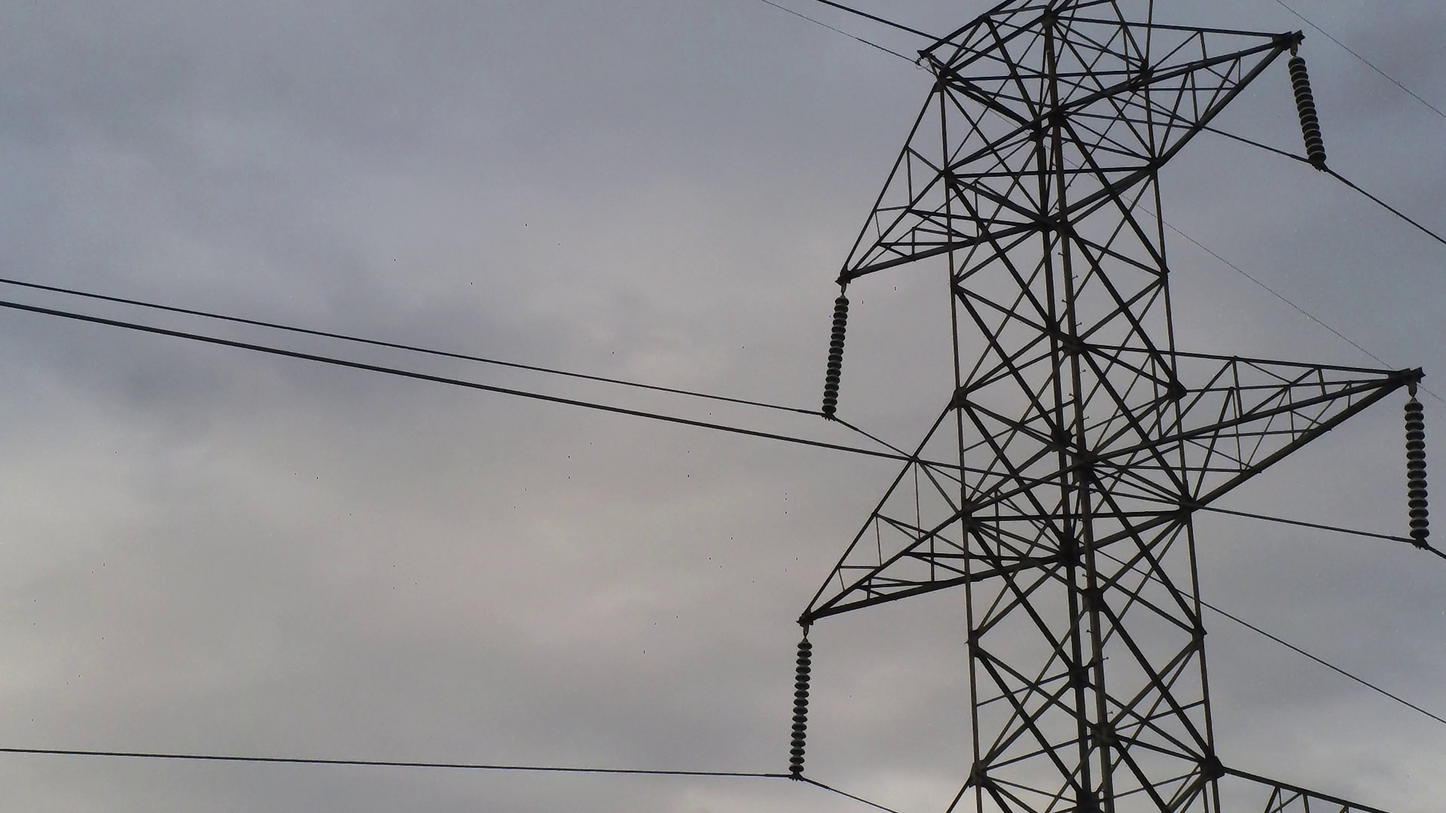insulator: (1286, 53, 1329, 164), (1403, 398, 1432, 540), (785, 638, 815, 775), (818, 294, 851, 416)
